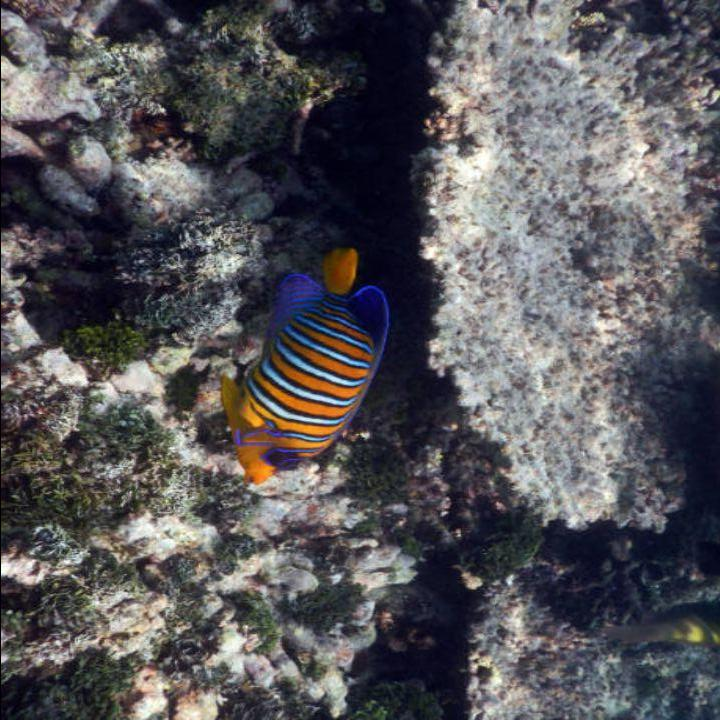Dead Coral: (392, 33, 694, 540)
